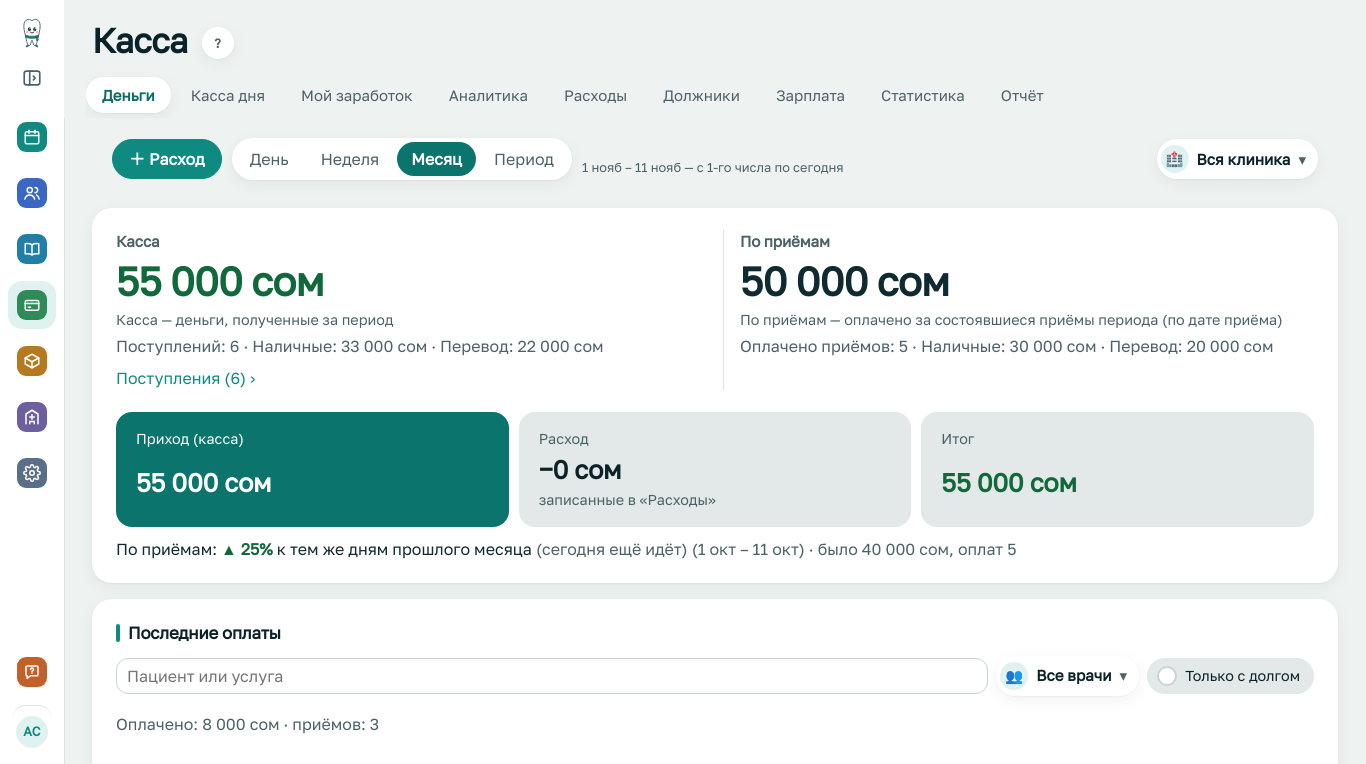
аналитика: выручка по месяцам, по врачам, по услугам, доля неявок
The image size is (1366, 764).
expect the navigation bar named "Разделы" is shown: met, box [8,113,56,497]
Click the link "Аналитика".
click(488, 95)  # box [449,86,528,104]
(page scrolled)
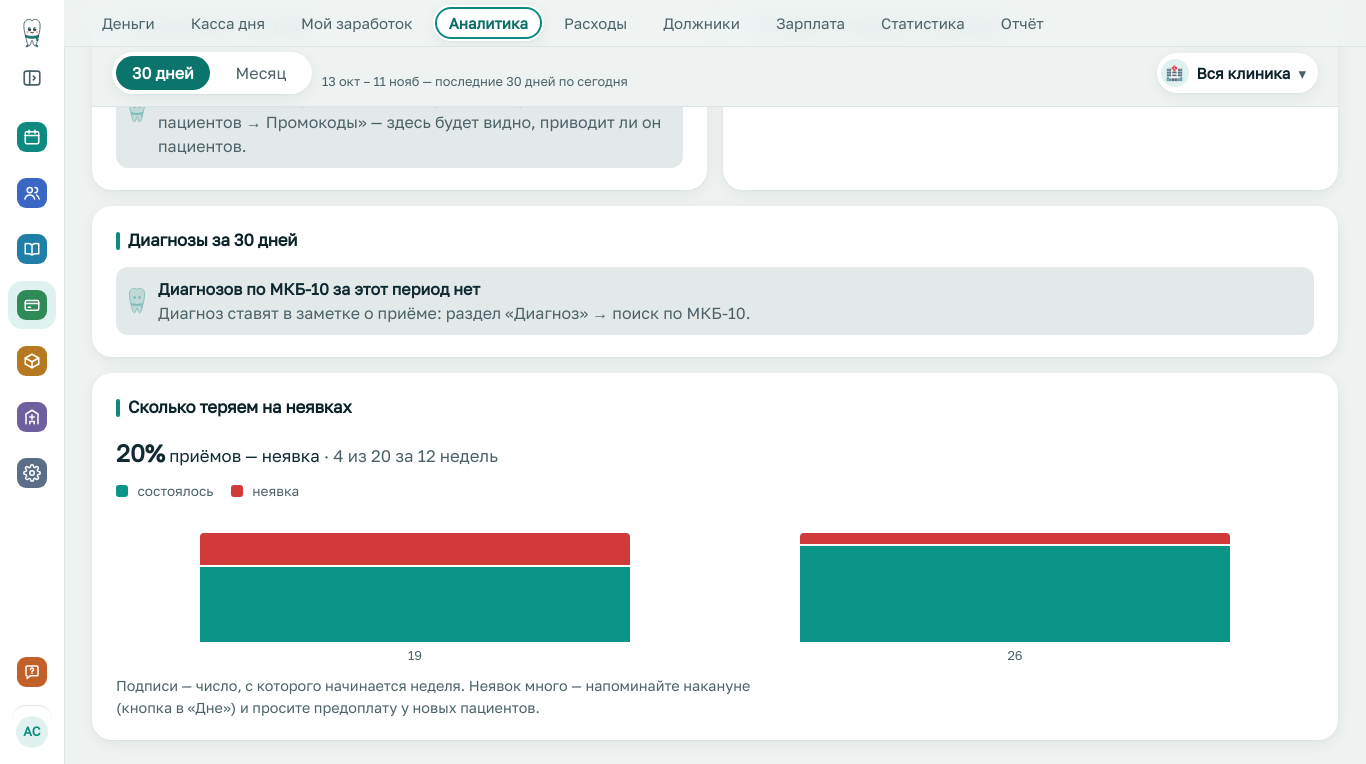
expect the text "20%" is shown: met, box [116,438,165,466]
